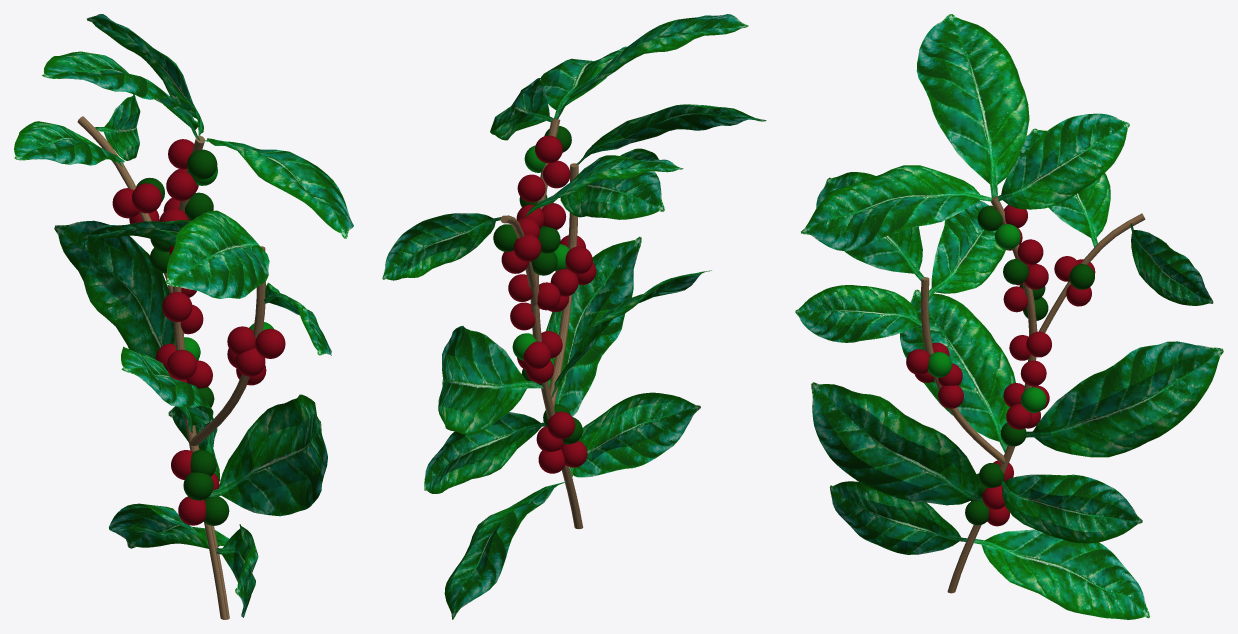
File: planta.gltf
The picture shows the model from 3 angles, left to right: view 1: azimuth 30°, elevation 25°; view 2: azimuth 150°, elevation 25°; view 3: azimuth 270°, elevation 25°; orthographic projection. The views are drawn at different scales.
Visible parts, largest first — view 1: Hoja 2.001, Hoja 2.005, Hoja 2.007, Hoja 1, Hoja 2, Hoja 1.006, Hoja 2.006, Hoja 1.001, Hoja 3, Hoja 3.005, Rama 1, Hoja 2.004 (+22 smaller); view 2: Hoja 2.005, Hoja 2.001, Hoja 3.005, Hoja 3.001, Hoja 2.004, Hoja 1.006, Hoja 3.004, Hoja 2.007, Hoja 2, Hoja 1, Hoja 3, Hoja 1.001 (+18 smaller); view 3: Hoja 2.005, Hoja 2, Hoja 2.001, Hoja 1.006, Hoja 1, Hoja 3, Hoja 1.001, Hoja 3.001, Hoja 3.005, Hoja 3.006, Hoja 3.004, Hoja 2.004 (+5 smaller).
Part boxes in pixels (x1,y1,x2,y2): Hoja 2.001: (209,394,327,516); Hoja 2.005: (54,220,174,359); Hoja 2.007: (166,210,269,298); Hoja 1: (200,138,353,238); Hoja 2: (42,51,199,140); Hoja 1.006: (109,503,229,551); Hoja 2.006: (14,121,124,166); Hoja 1.001: (121,346,213,433); Hoja 3: (86,14,203,135); Hoja 3.005: (216,524,258,617); Rama 1: (172,135,229,619); Hoja 2.004: (95,94,140,160); Hoja 2.005: (438,326,543,435); Hoja 2.001: (546,236,641,416); Hoja 3.005: (570,392,700,477); Hoja 3.001: (424,412,545,493); Hoja 2.004: (382,213,500,280); Hoja 1.006: (444,481,566,619); Hoja 3.004: (560,155,665,219); Hoja 2.007: (576,104,766,164); Hoja 2: (556,14,748,119); Hoja 1: (540,46,627,118); Hoja 3: (490,78,553,140); Hoja 1.001: (551,270,711,397); Hoja 2.005: (1026,341,1223,457); Hoja 2: (916,14,1029,198); Hoja 2.001: (811,382,982,505); Hoja 1.006: (973,529,1150,619); Hoja 1: (801,165,992,251); Hoja 3: (997,113,1129,209); Hoja 1.001: (900,289,1015,452); Hoja 3.001: (1001,474,1142,543); Hoja 3.005: (829,481,967,554); Hoja 3.006: (795,285,921,342); Hoja 3.004: (928,200,1005,297); Hoja 2.004: (1130,223,1213,305).
Size of the model in its own units: 0.6683 by 1.53 by 1.15.
Materials: 6 (2 with a texture image).
